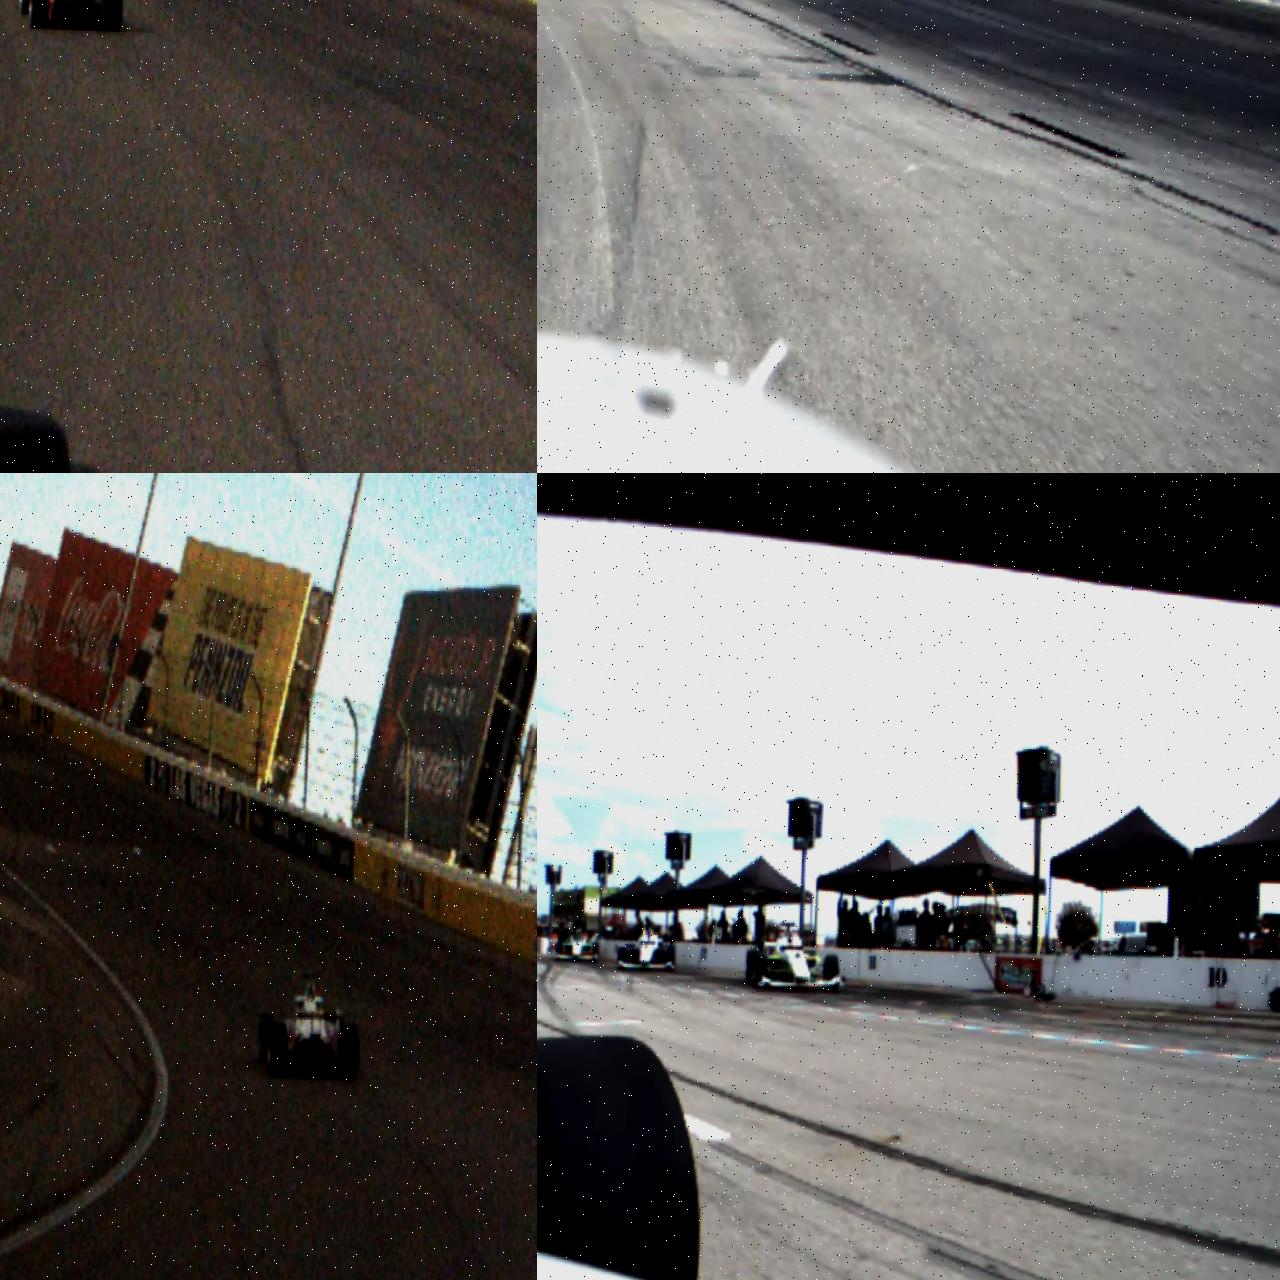AV: (256, 971, 363, 1082), (744, 921, 840, 990), (18, 0, 125, 32), (618, 932, 675, 972), (554, 930, 599, 961)
Wheel: (537, 1030, 706, 1280), (267, 1022, 287, 1078), (341, 1024, 361, 1081), (257, 1012, 273, 1065), (822, 954, 839, 993), (29, 0, 50, 30), (103, 0, 123, 32), (751, 953, 768, 987), (19, 0, 36, 16)
